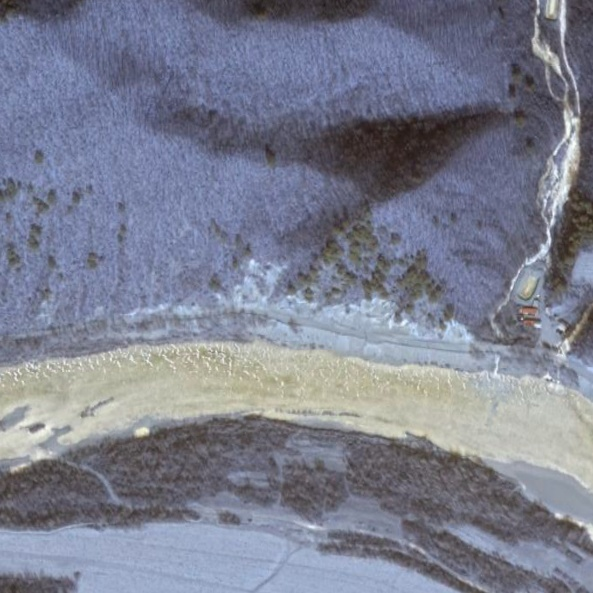slope: (236, 256, 472, 344), (532, 116, 584, 228)
